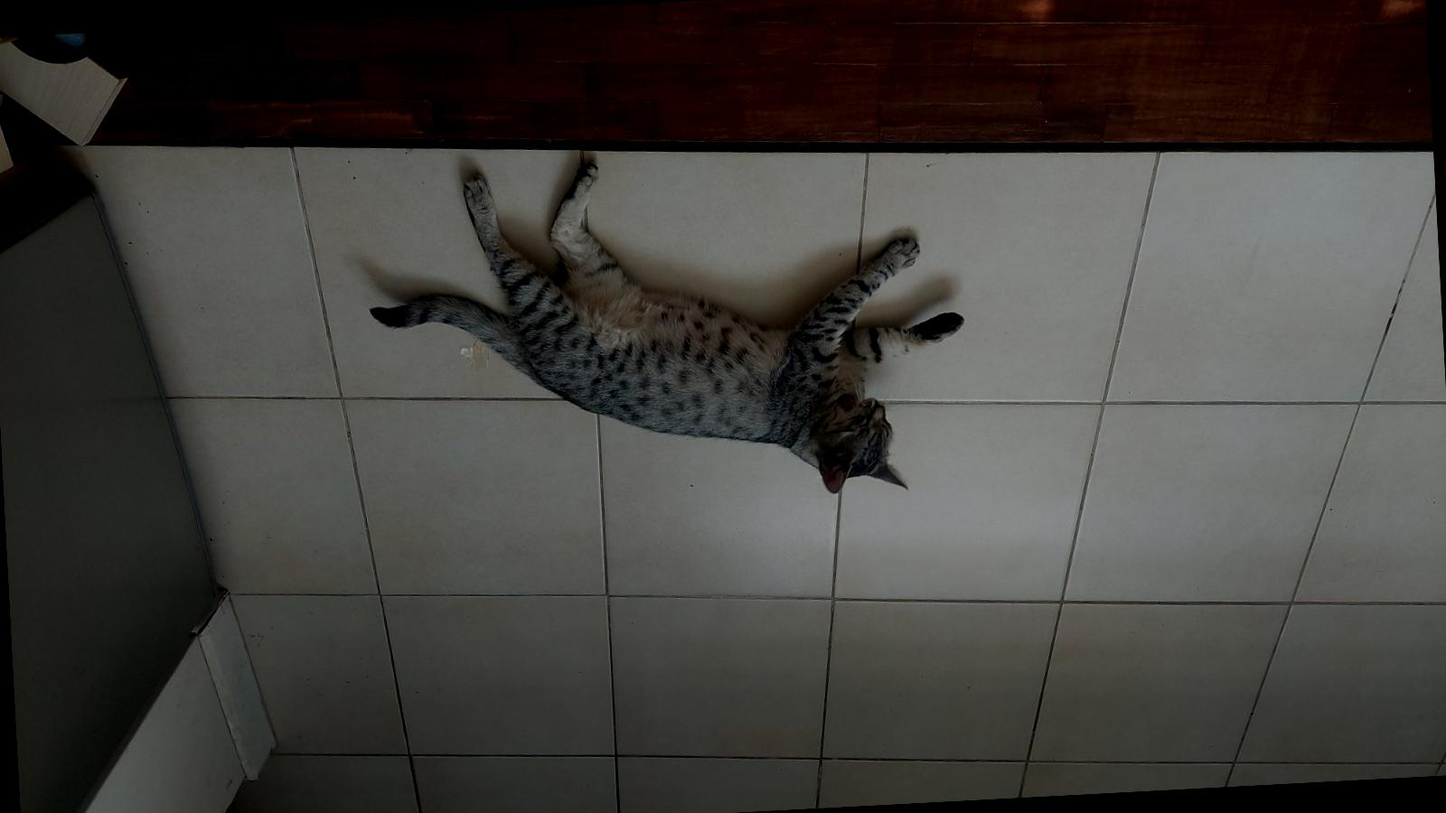macka: (360, 142, 972, 518)
